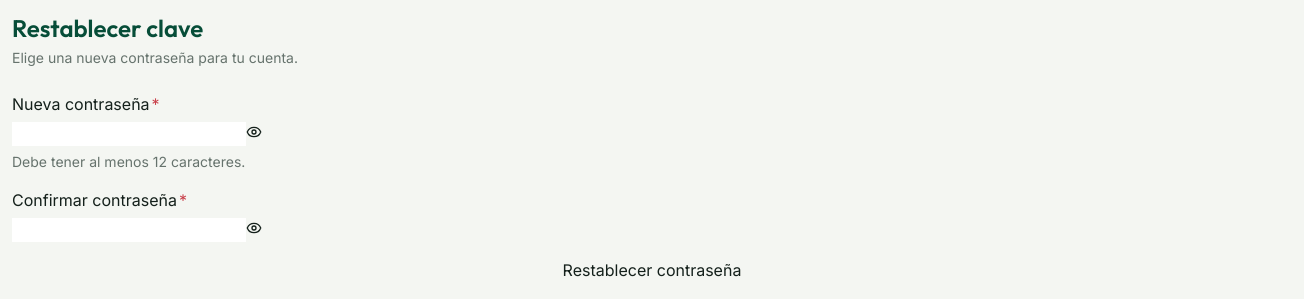
Test: ResetPasswordPage › succeeds with a valid token and strong password, then redirects toward /iniciar-sesion
The width and height of the screenshot is (1304, 299).
Expected: the heading "Restablecer clave" is shown, [12,13,203,43]
Type "Strong-Password-99!" into the password field labelled "Nueva contraseña" at (129, 134), box [12,122,246,146]
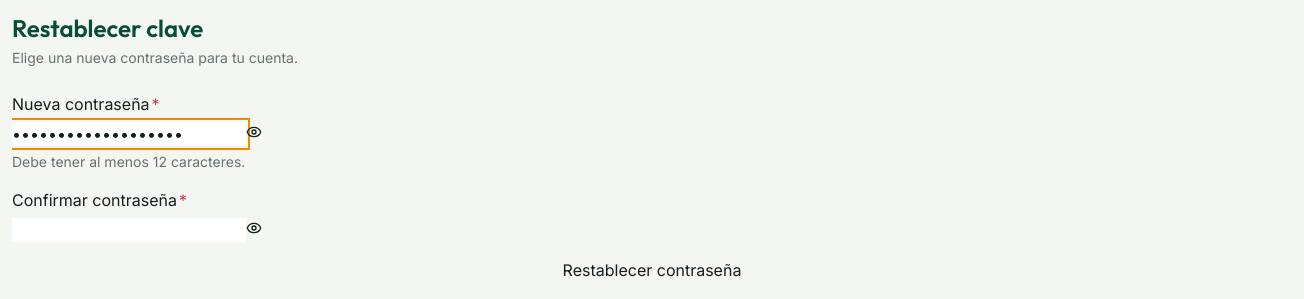
Type "Strong-Password-99!" into the password field labelled "Confirmar contraseña" at (129, 230), box [12,218,246,242]
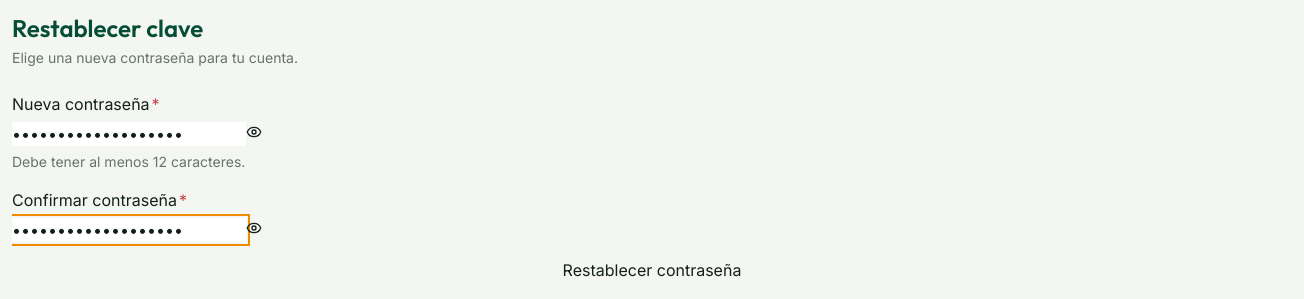
Click the button "Restablecer contraseña" at (652, 270), box [12,258,1292,282]
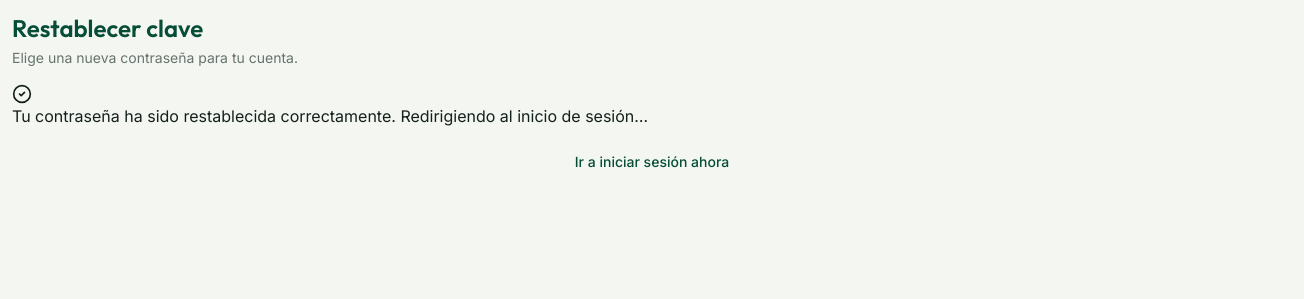
Expected: the message shows "restablecida correctamente", [12,106,648,126]
